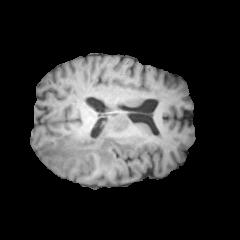glioma: (40, 115, 135, 174)
